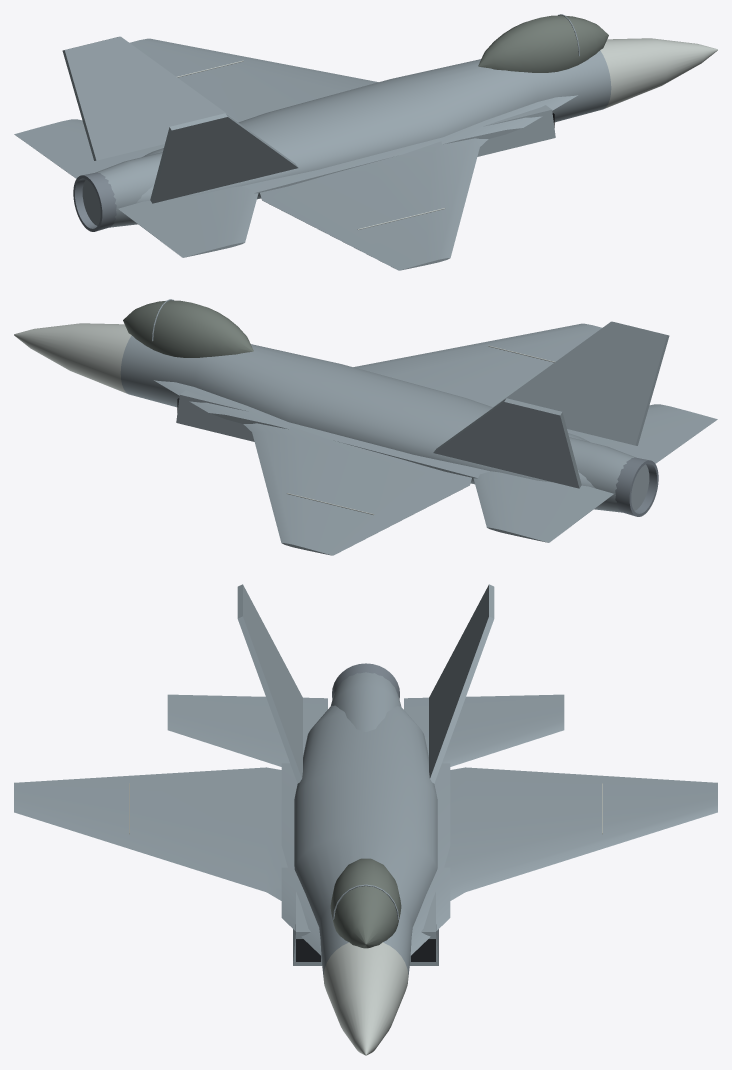
The model's file is usn_fighter_f35c.glb.
3 views of the same model, one above another, from view 1: azimuth 30°, elevation 25°; view 2: azimuth 150°, elevation 25°; view 3: azimuth 270°, elevation 25° (orthographic). The views are drawn at different scales.
Parts seen in each view (by area): view 1: airframe, canopy_gold, array_face, titanium; view 2: airframe, canopy_gold, array_face, titanium; view 3: airframe, array_face, canopy_gold, rubber.
Boxes of the visible parts, x1,y1,x2,y2 form: airframe: (14, 14, 611, 270); canopy_gold: (478, 15, 608, 72); array_face: (177, 38, 717, 229); titanium: (73, 172, 116, 231); airframe: (120, 299, 717, 555); canopy_gold: (123, 300, 253, 357); array_face: (14, 323, 554, 514); titanium: (615, 457, 658, 516); airframe: (14, 584, 717, 976); array_face: (129, 783, 602, 1055); canopy_gold: (330, 858, 401, 948); rubber: (296, 939, 435, 961).
Size of the model in its own units: 10 by 2.12 by 8.24.
